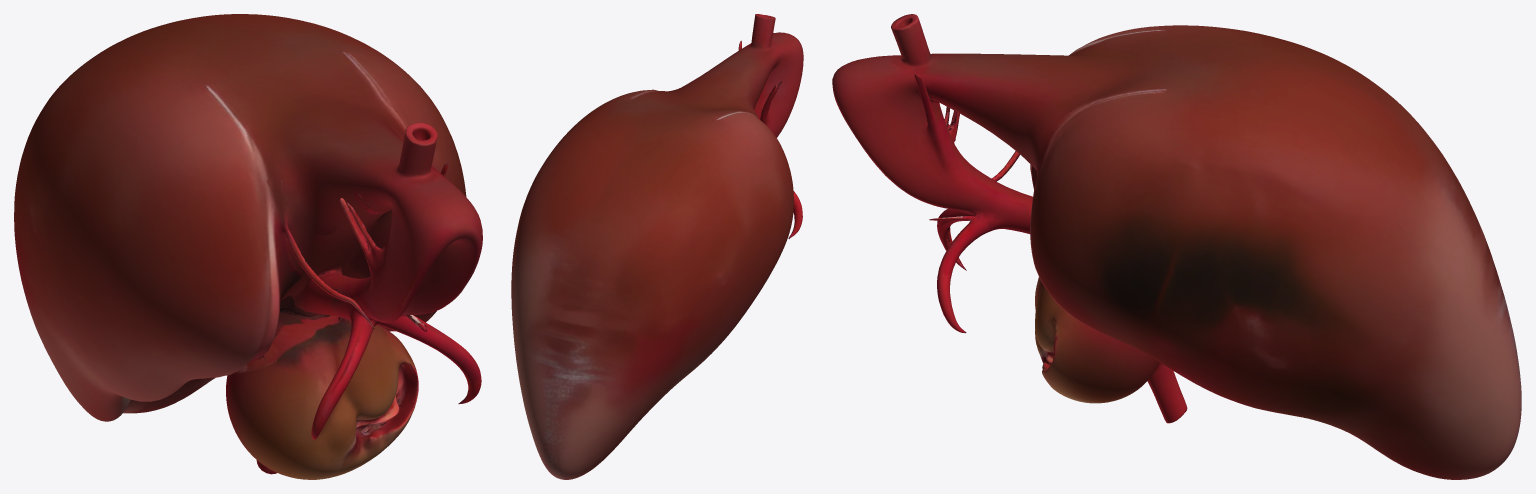
File: vet_v2_organ_rabbit_liver.glb
3 renders of one model, left to right at view 1: azimuth 30°, elevation 25°; view 2: azimuth 150°, elevation 25°; view 3: azimuth 270°, elevation 25°, orthographic. The views are drawn at different scales.
Visible parts, largest first — view 1: model; view 2: model; view 3: model.
Boxes of the visible parts, box(x1,y1,x2,y2) form: model: box(14, 14, 482, 479); model: box(511, 14, 803, 479); model: box(832, 14, 1521, 479).
Bounding box in the file's own units: 0.9696 × 1.39 × 1.9.
1 material, 1 textured.
